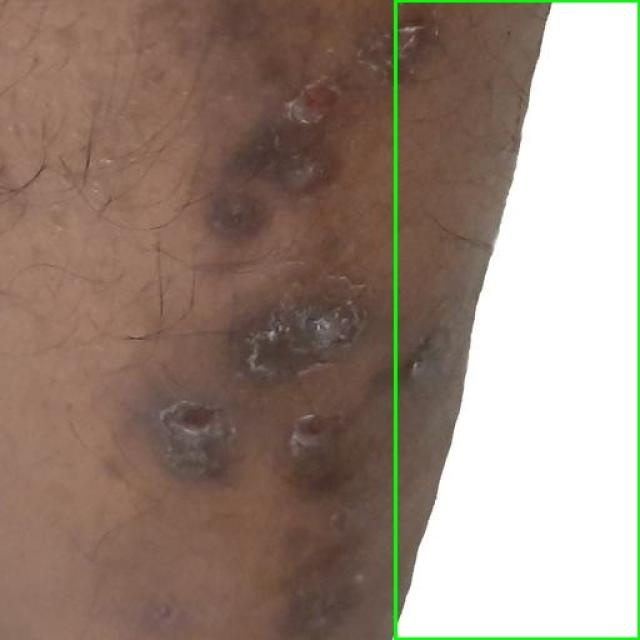Eczema: (395, 0, 639, 639)
